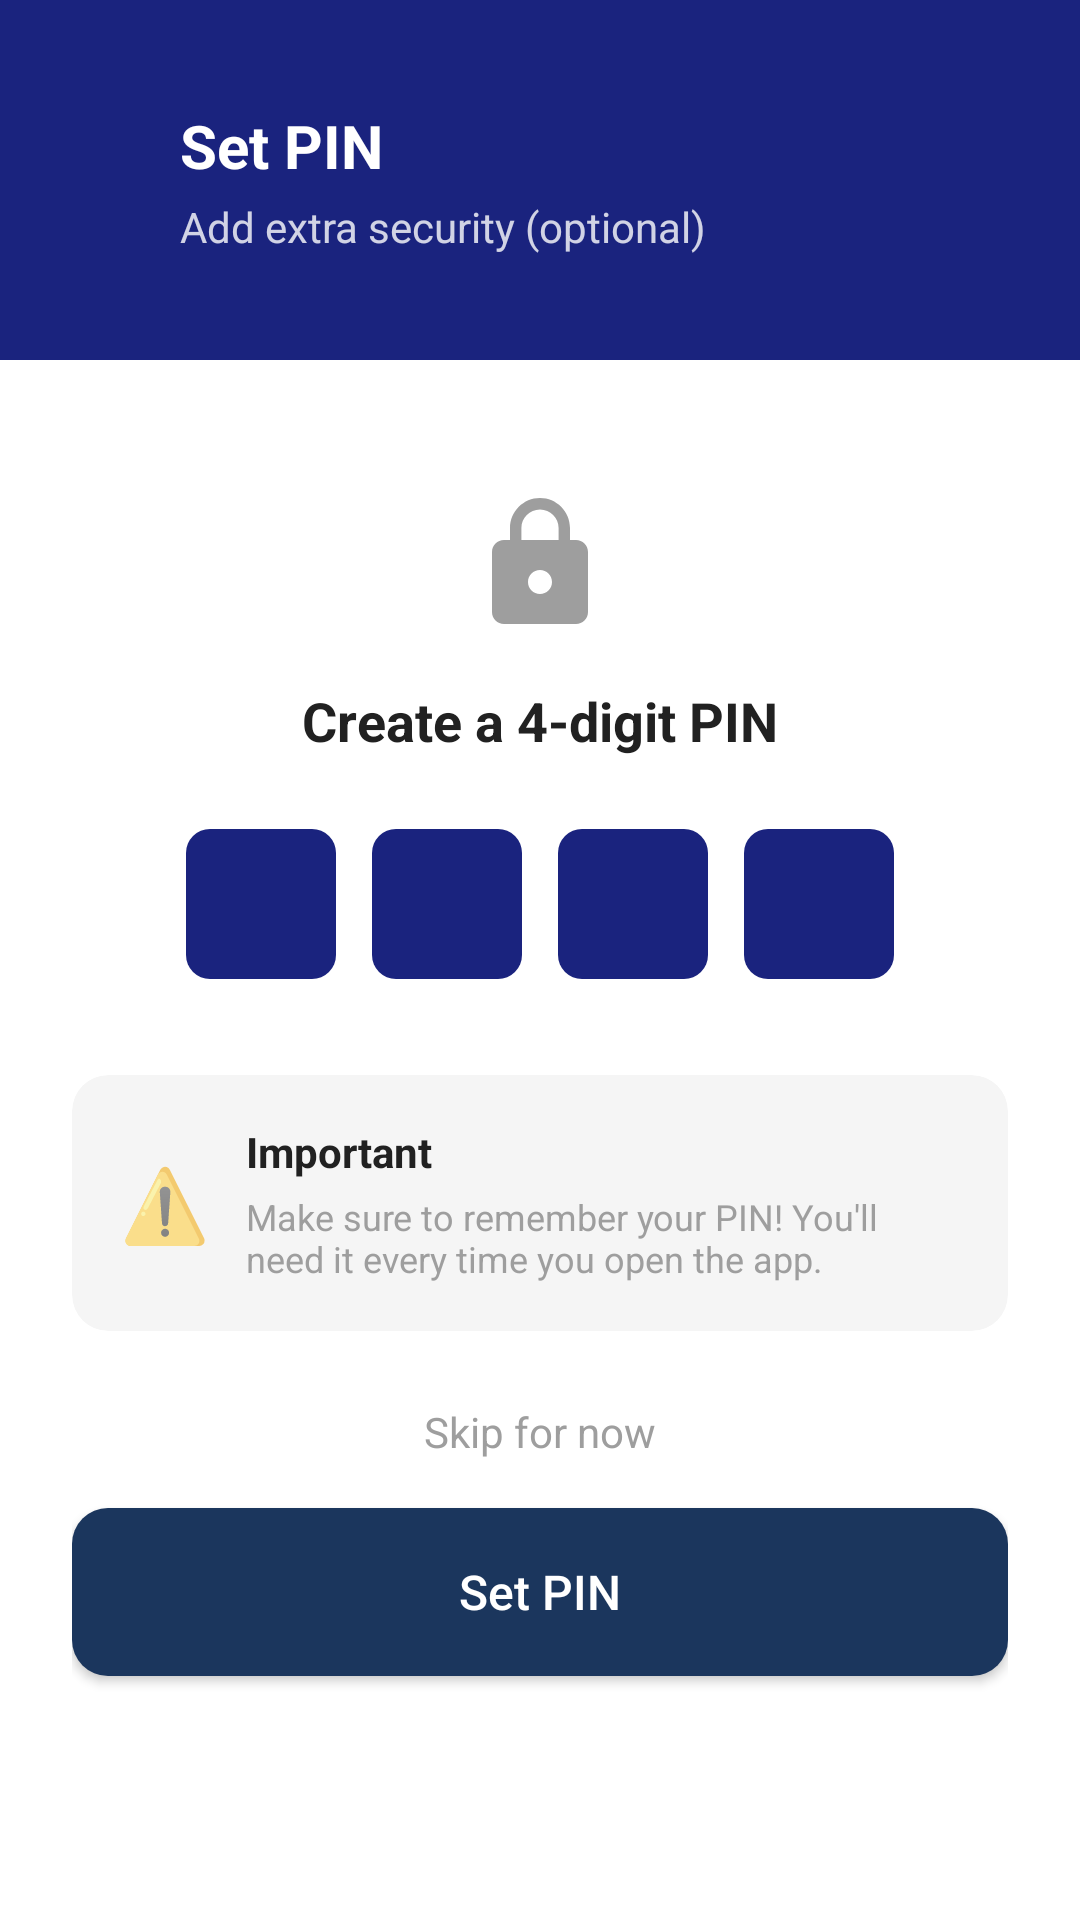

Screen size 1080×1920. Icon name, then its center in pixels as (x,y):
lock: (540,561)
